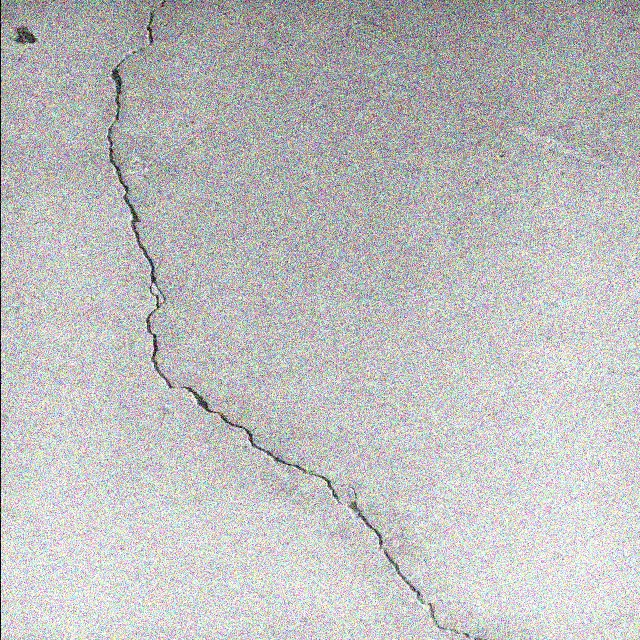SurfaceCrack: (18, 1, 625, 640)
